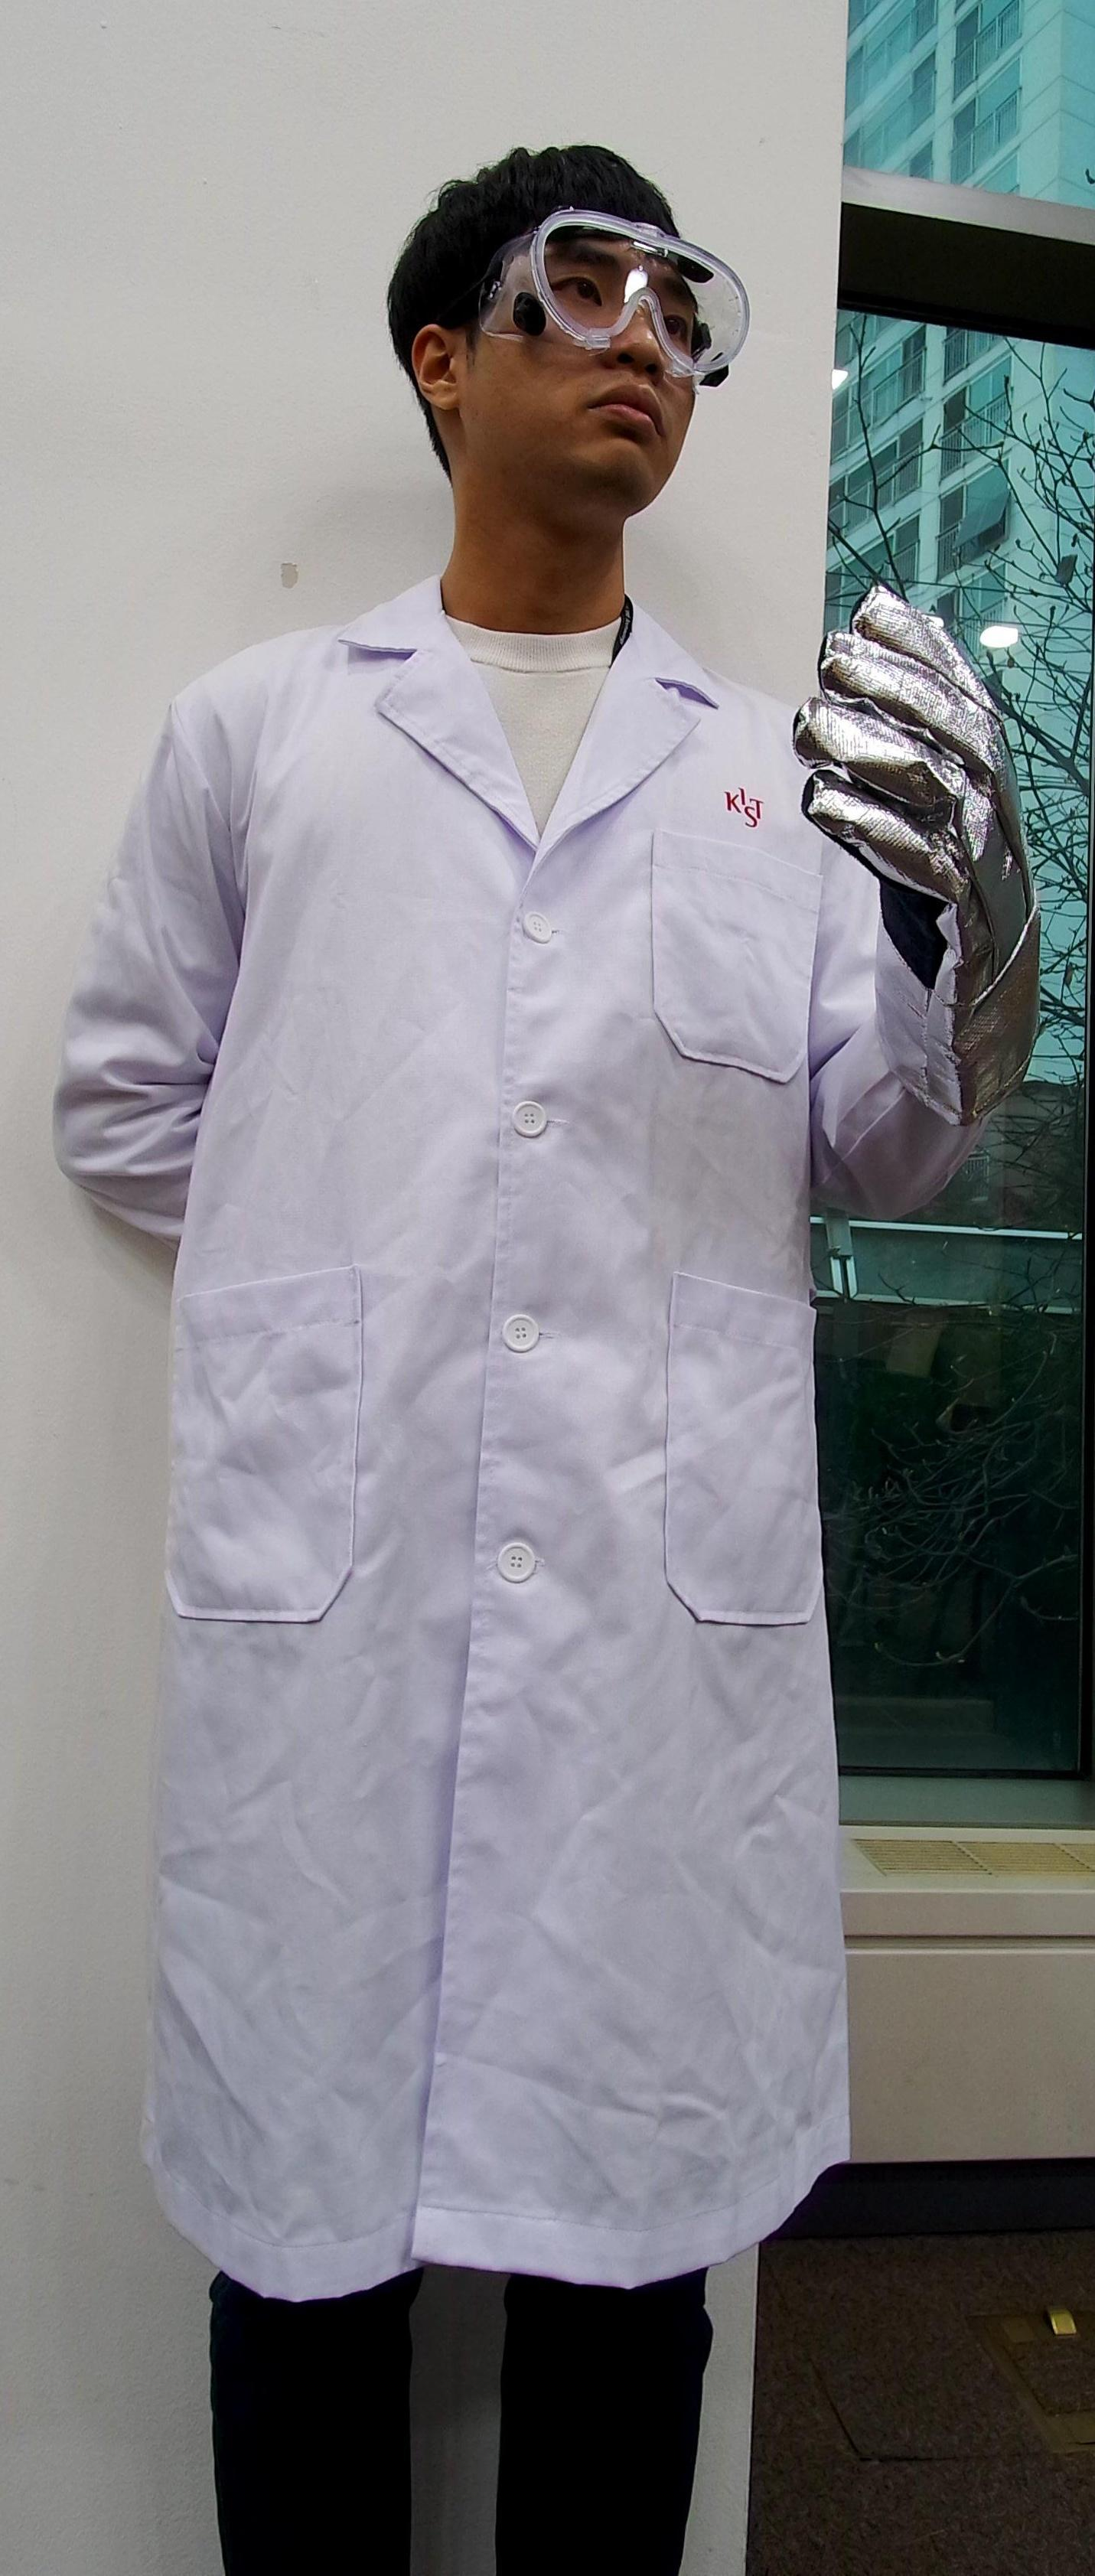lab_coat: (136, 683, 798, 2241)
